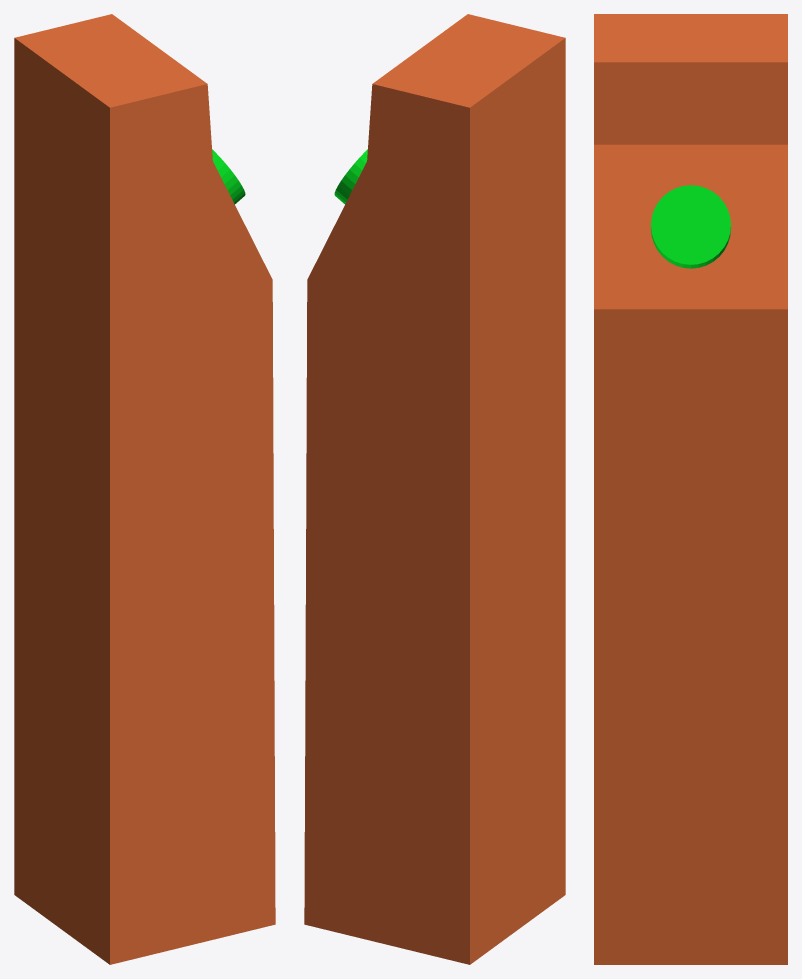
Rendered from button green.fbx.
The picture shows the model from 3 angles, left to right: view 1: azimuth 30°, elevation 25°; view 2: azimuth 150°, elevation 25°; view 3: azimuth 270°, elevation 25°; orthographic projection.
Parts seen in each view (by area): view 1: Cube, Cylinder; view 2: Cube, Cylinder; view 3: Cube, Cylinder.
Part boxes in pixels (x1,y1,x2,y2): Cube: (14,14,275,964); Cylinder: (212,149,245,204); Cube: (304,14,565,964); Cylinder: (334,149,367,204); Cube: (594,14,787,964); Cylinder: (651,185,730,268).
Size of the model in its own units: 2041 by 9581 by 1937.
